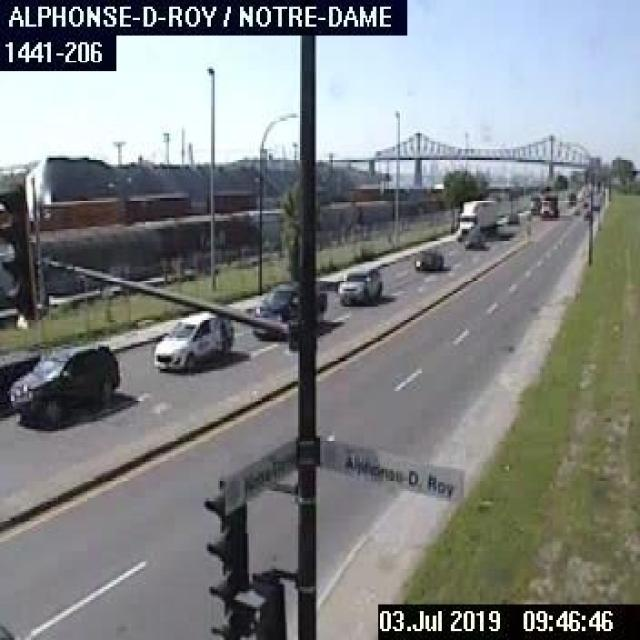vehicle: (8, 340, 120, 424), (149, 311, 233, 373), (253, 280, 329, 344), (455, 196, 503, 240), (336, 264, 384, 304), (458, 226, 489, 252), (411, 247, 444, 269), (537, 192, 559, 220)
